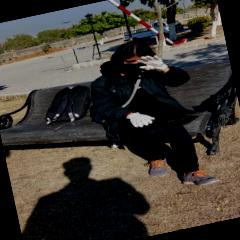gloved: (136, 52, 168, 76), (125, 108, 157, 130)
